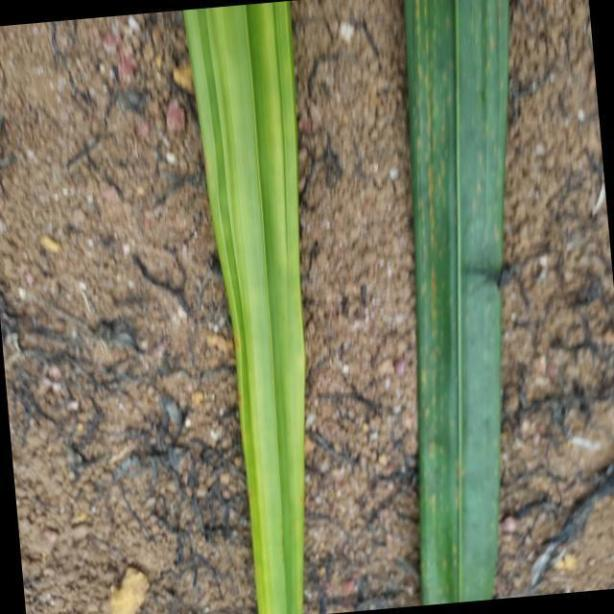nitrogen: (182, 0, 306, 614), (398, 0, 513, 614)
